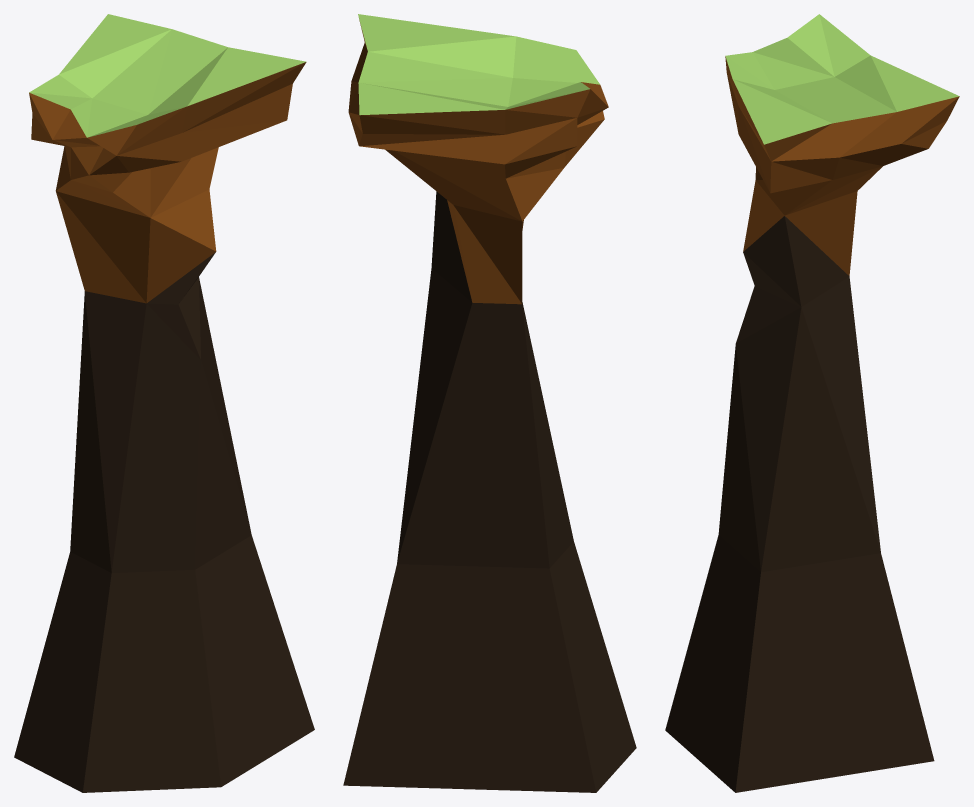
Rendered from Island_B01_Flat1_Light_Model.fbx.
3 views of the same model, side by side, from view 1: azimuth 30°, elevation 25°; view 2: azimuth 150°, elevation 25°; view 3: azimuth 270°, elevation 25° (orthographic). The views are drawn at different scales.
Visible parts, largest first — view 1: Flat_01; view 2: Flat_01; view 3: Flat_01.
Boxes of the visible parts, x1,y1,x2,y2 form: Flat_01: [14, 14, 314, 792]; Flat_01: [343, 14, 636, 792]; Flat_01: [665, 14, 959, 792].
Size of the model in its own units: 13.77 by 33.69 by 13.61.
